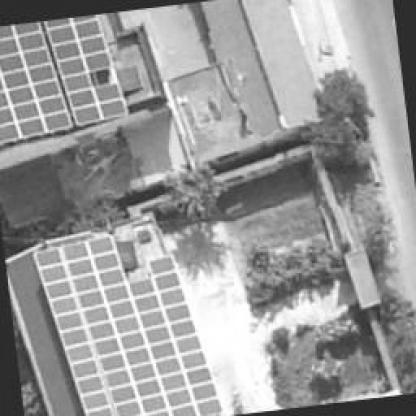solar-pv-panel: (31, 233, 223, 416), (44, 12, 127, 123), (0, 19, 72, 139)
